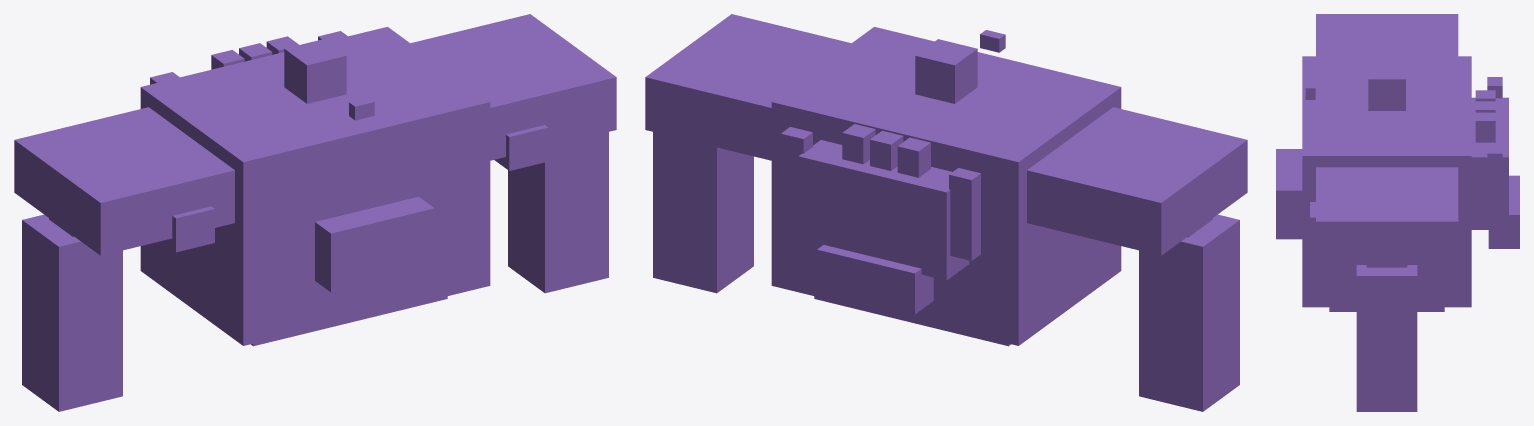
The model's file is mechfall_ibis.obj.
The picture shows the model from 3 angles, left to right: view 1: azimuth 30°, elevation 25°; view 2: azimuth 150°, elevation 25°; view 3: azimuth 270°, elevation 25°; orthographic projection. The views are drawn at different scales.
Parts seen in each view (by area): view 1: mechfall_ibis; view 2: mechfall_ibis; view 3: mechfall_ibis.
Boxes of the visible parts, x1,y1,x2,y2 form: mechfall_ibis: (14,14,616,411); mechfall_ibis: (645,14,1247,411); mechfall_ibis: (1276,14,1519,411).
Bounding box in the file's own units: 6.76 × 3.28 × 3.15.
